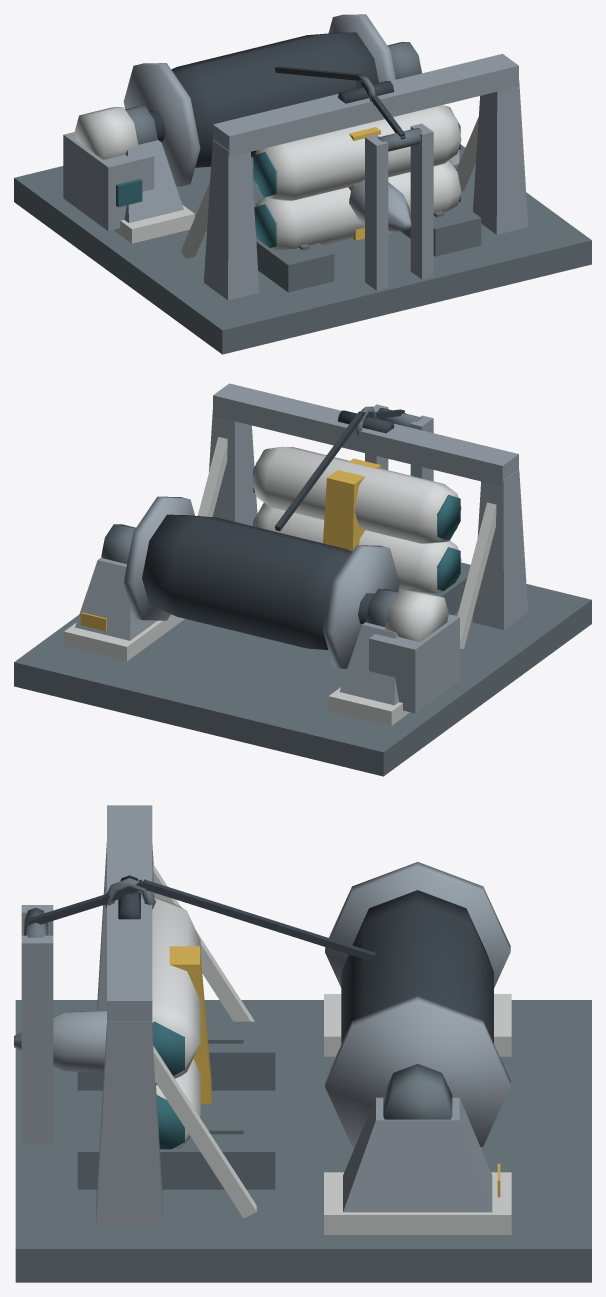
File: MOD_Sonar_TAS.glb
The picture shows the model from 3 angles, top to bottom: view 1: azimuth 30°, elevation 25°; view 2: azimuth 150°, elevation 25°; view 3: azimuth 270°, elevation 25°; orthographic projection. The views are drawn at different scales.
Visible parts, largest first — view 1: FixedSonarFoundation, WoundSonarCableDrum, RecoveryFrameCrossmember, TransmitterRing_02, RecoveryFrameLeg_Port, RecoveryFrameLeg_Starboard, TransmitterRing_01, WinchMotorHousing, DrumSideFlange_Port, AftFairleadFoot_Port, AftFairleadFoot_Starboard, FixedWetEndCradle_Port (+16 smaller); view 2: FixedSonarFoundation, WoundSonarCableDrum, RecoveryFrameCrossmember, TransmitterRing_02, RecoveryFrameLeg_Port, WinchMotorHousing, DrumSideFlange_Port, TransmitterRing_01, RecoveryFrameLeg_Starboard, WinchBearingStand_Starboard, DrumSideFlange_Starboard, WetEndVerticalSpine (+14 smaller); view 3: FixedSonarFoundation, DrumSideFlange_Starboard, WoundSonarCableDrum, WinchBearingStand_Starboard, RecoveryFrameLeg_Starboard, RecoveryFrameCrossmember, FixedWetEndCradle_Starboard, DrumSideFlange_Port, AftFairleadFoot_Starboard, WinchBearingFoot_Starboard, TransmitterRing_02, FixedWetEndCradle_Port (+13 smaller).
Part boxes in pixels (x1=…): FixedSonarFoundation: x1=14, y1=144, x2=591, y2=354; WoundSonarCableDrum: x1=171, y1=32, x2=378, y2=167; RecoveryFrameCrossmember: x1=213, y1=53, x2=518, y2=156; TransmitterRing_02: x1=252, y1=105, x2=461, y2=200; RecoveryFrameLeg_Port: x1=204, y1=139, x2=259, y2=300; RecoveryFrameLeg_Starboard: x1=473, y1=80, x2=528, y2=234; TransmitterRing_01: x1=255, y1=160, x2=461, y2=250; WinchMotorHousing: x1=63, y1=132, x2=154, y2=231; DrumSideFlange_Port: x1=123, y1=63, x2=200, y2=186; AftFairleadFoot_Port: x1=365, y1=134, x2=388, y2=290; AftFairleadFoot_Starboard: x1=410, y1=123, x2=433, y2=279; FixedWetEndCradle_Port: x1=254, y1=203, x2=334, y2=292; FixedSonarFoundation: x1=14, y1=584, x2=591, y2=776; WoundSonarCableDrum: x1=142, y1=514, x2=351, y2=649; RecoveryFrameCrossmember: x1=213, y1=383, x2=518, y2=486; TransmitterRing_02: x1=252, y1=446, x2=461, y2=543; RecoveryFrameLeg_Port: x1=472, y1=469, x2=528, y2=629; WinchMotorHousing: x1=369, y1=614, x2=459, y2=713; DrumSideFlange_Port: x1=323, y1=545, x2=399, y2=668; TransmitterRing_01: x1=254, y1=503, x2=461, y2=593; RecoveryFrameLeg_Starboard: x1=209, y1=410, x2=257, y2=526; WinchBearingStand_Starboard: x1=75, y1=557, x2=156, y2=640; DrumSideFlange_Starboard: x1=123, y1=496, x2=194, y2=620; WetEndVerticalSpine: x1=323, y1=458, x2=380, y2=551; FixedSonarFoundation: x1=15, y1=1000, x2=591, y2=1282; DrumSideFlange_Starboard: x1=325, y1=996, x2=510, y2=1147; WoundSonarCableDrum: x1=341, y1=890, x2=493, y2=1043; WinchBearingStand_Starboard: x1=343, y1=1097, x2=492, y2=1212; RecoveryFrameLeg_Starboard: x1=96, y1=1021, x2=162, y2=1225; RecoveryFrameCrossmember: x1=107, y1=805, x2=152, y2=1028; FixedWetEndCradle_Starboard: x1=77, y1=1120, x2=275, y2=1189; DrumSideFlange_Port: x1=325, y1=862, x2=510, y2=987; AftFairleadFoot_Starboard: x1=21, y1=935, x2=53, y2=1143; WinchBearingFoot_Starboard: x1=324, y1=1172, x2=511, y2=1234; TransmitterRing_02: x1=152, y1=897, x2=200, y2=1085; FixedWetEndCradle_Port: x1=77, y1=1021, x2=275, y2=1090.
Bounding box in the file's own units: 1.76 × 0.922 × 1.73.
